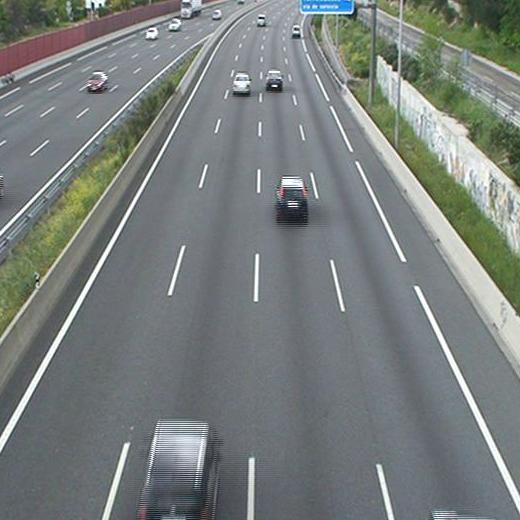car: (137, 420, 219, 520), (275, 175, 309, 225), (233, 72, 252, 96), (265, 69, 283, 91), (291, 24, 302, 38), (256, 15, 267, 28)
